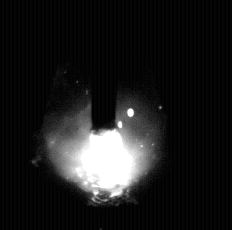arame: (92, 0, 118, 135)
poca: (43, 0, 166, 230)
